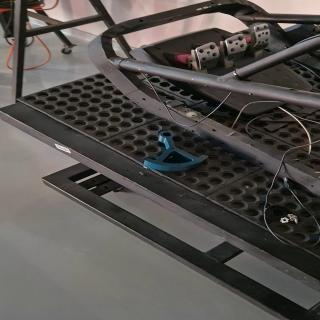haptic: (143, 130, 209, 172)
